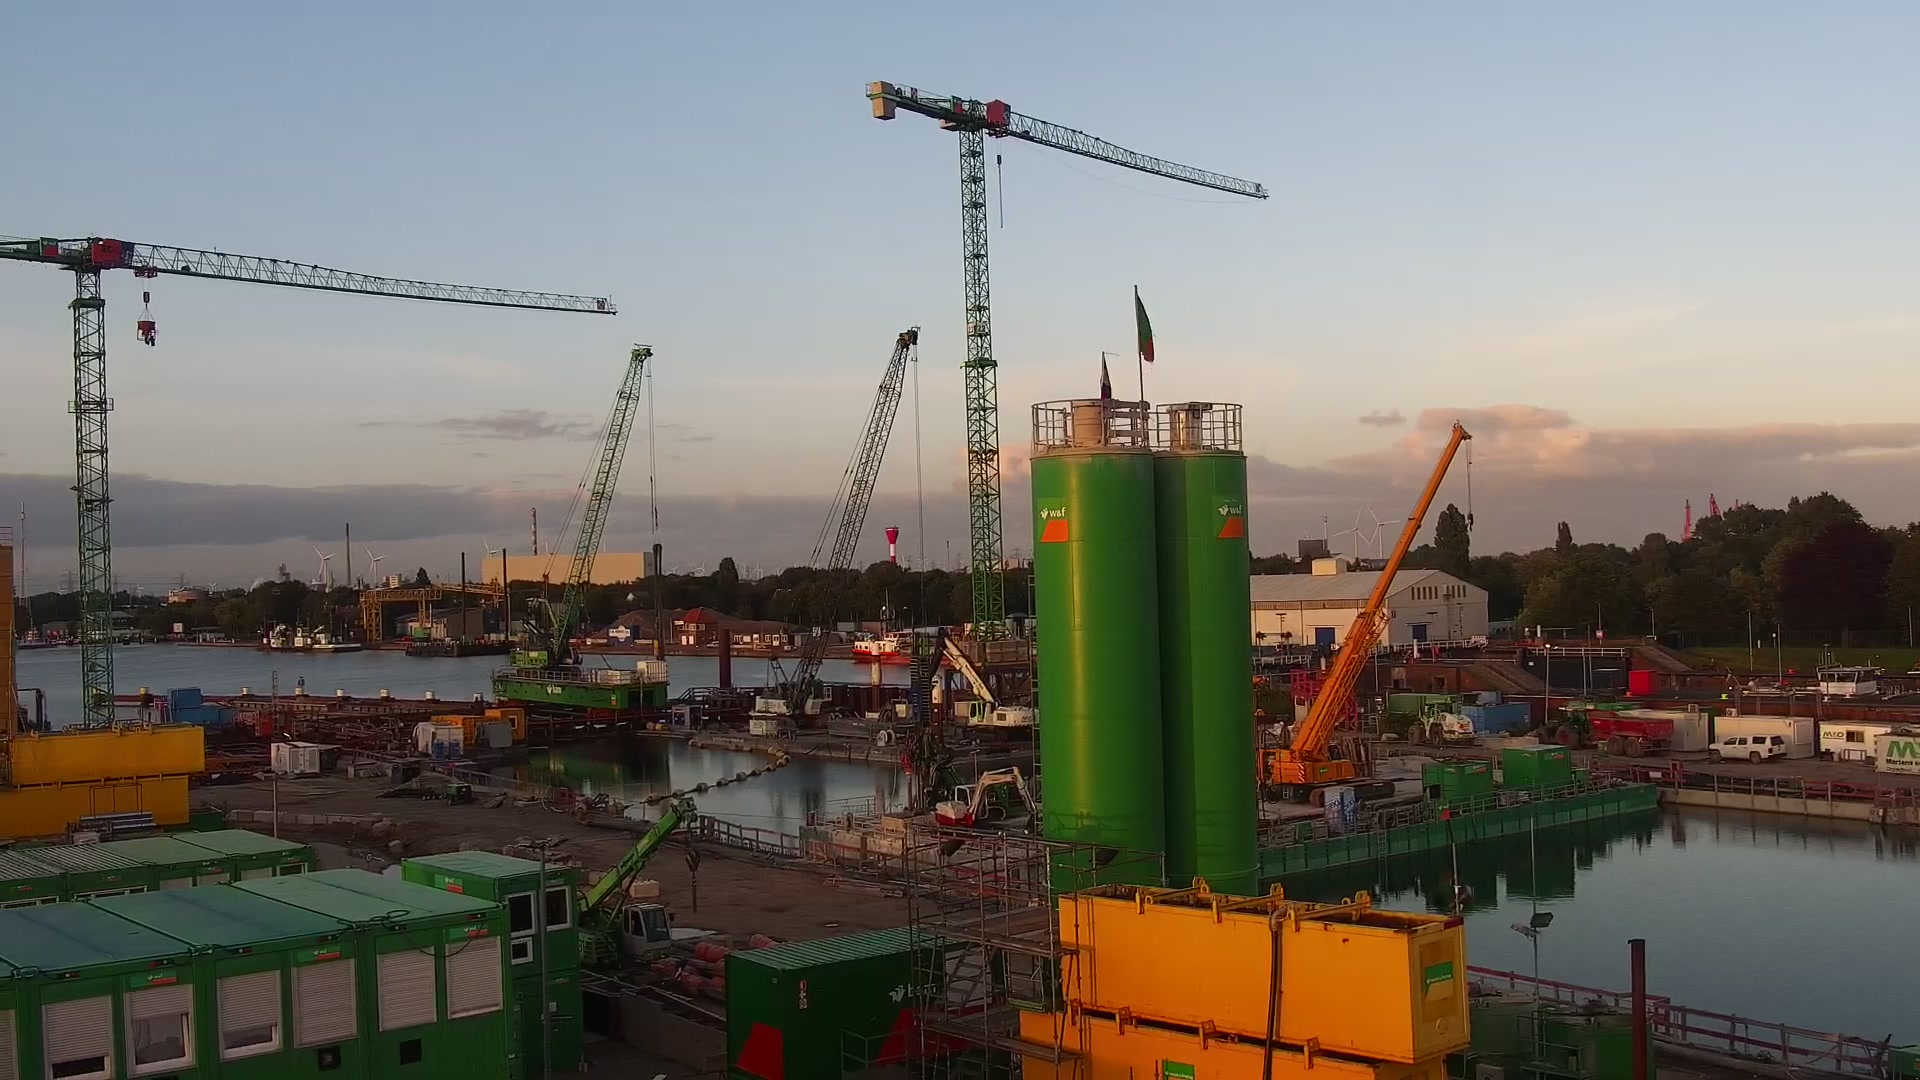land: (578, 794, 702, 963), (927, 624, 1040, 742), (934, 762, 1043, 835), (1538, 705, 1673, 758), (1387, 694, 1476, 748), (1706, 735, 1787, 765)
sea: (848, 626, 959, 665)
